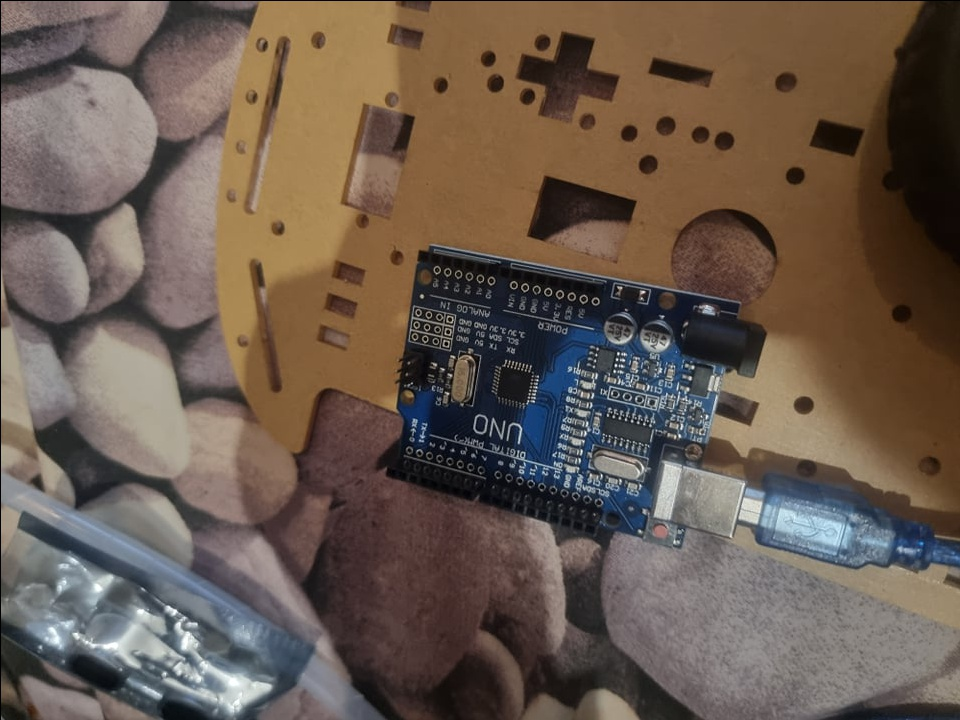UNO R3: (384, 236, 767, 564)
